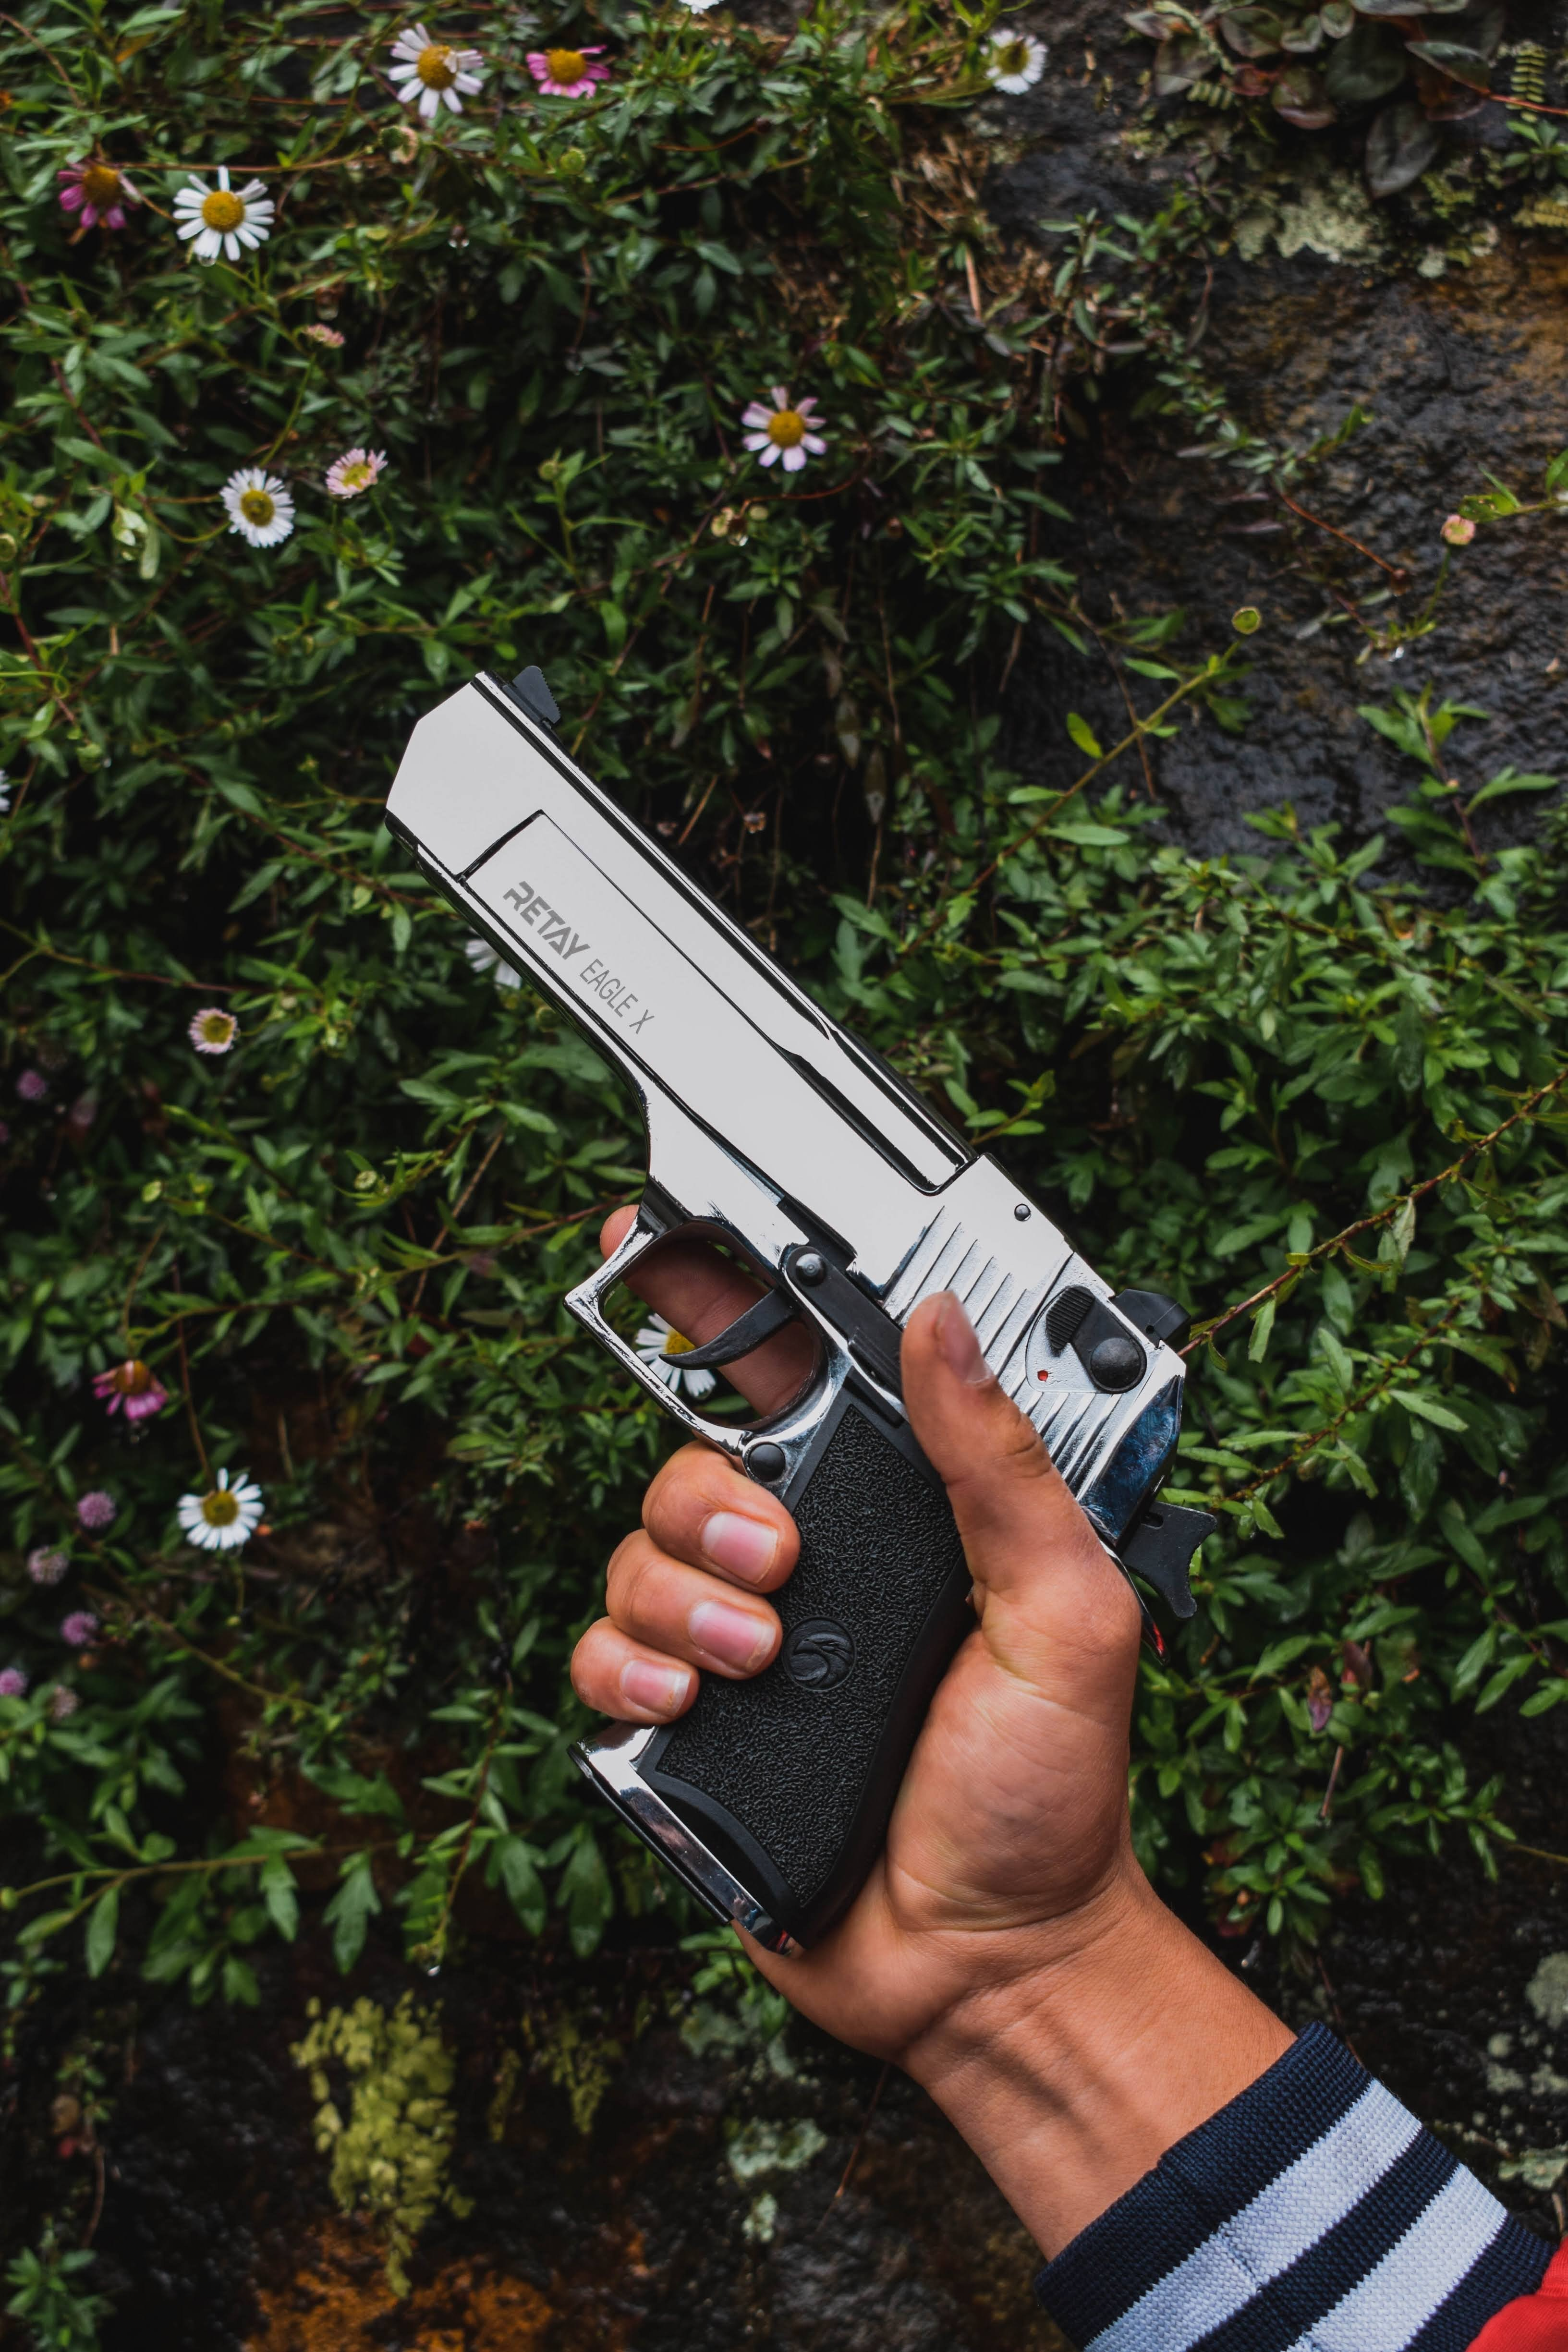gun: (334, 667, 1237, 1990)
